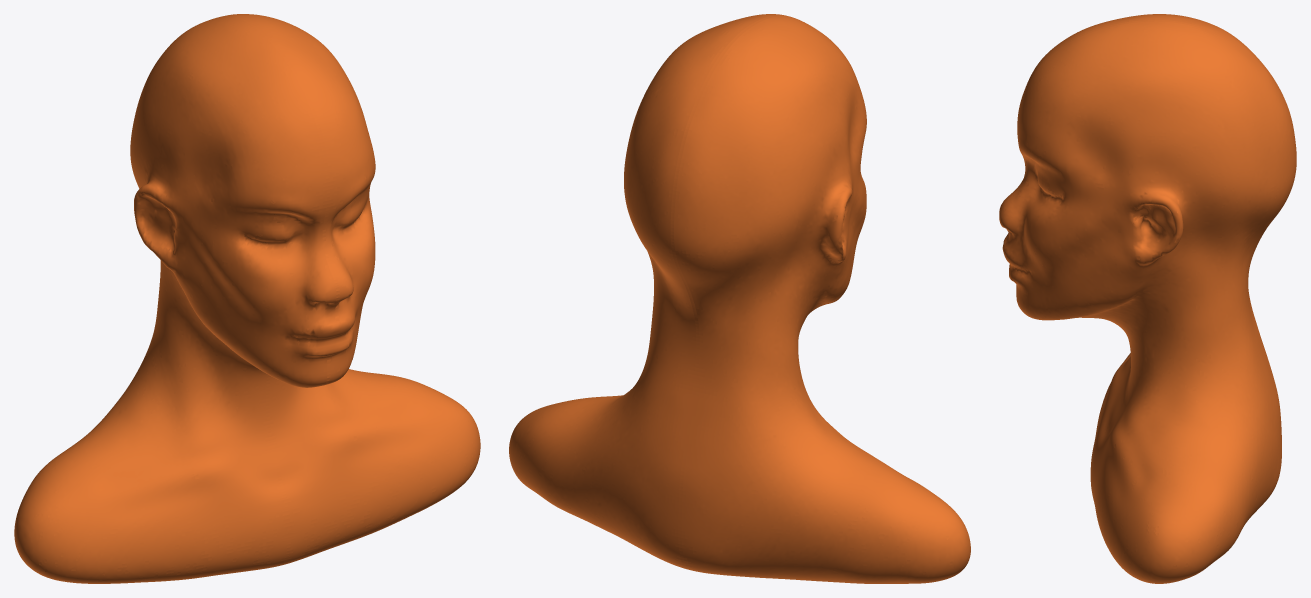
File: custombust.glb
3 views of the same model, side by side, from view 1: azimuth 30°, elevation 25°; view 2: azimuth 150°, elevation 25°; view 3: azimuth 270°, elevation 25° (orthographic). The views are drawn at different scales.
Parts seen in each view (by area): view 1: Sphere.002; view 2: Sphere.002; view 3: Sphere.002.
Boxes of the visible parts, x1,y1,x2,y2 form: Sphere.002: (14,14,480,583); Sphere.002: (509,14,970,583); Sphere.002: (999,14,1296,583).
Bounding box in the file's own units: 6.58 × 7.22 × 3.97.
